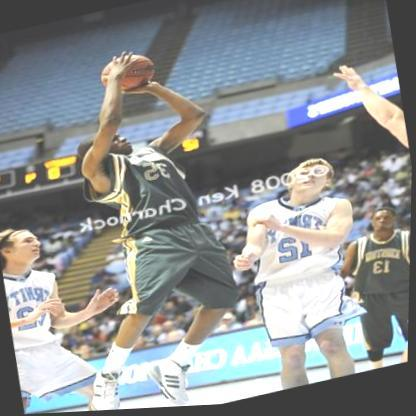basketball: (97, 51, 159, 99)
